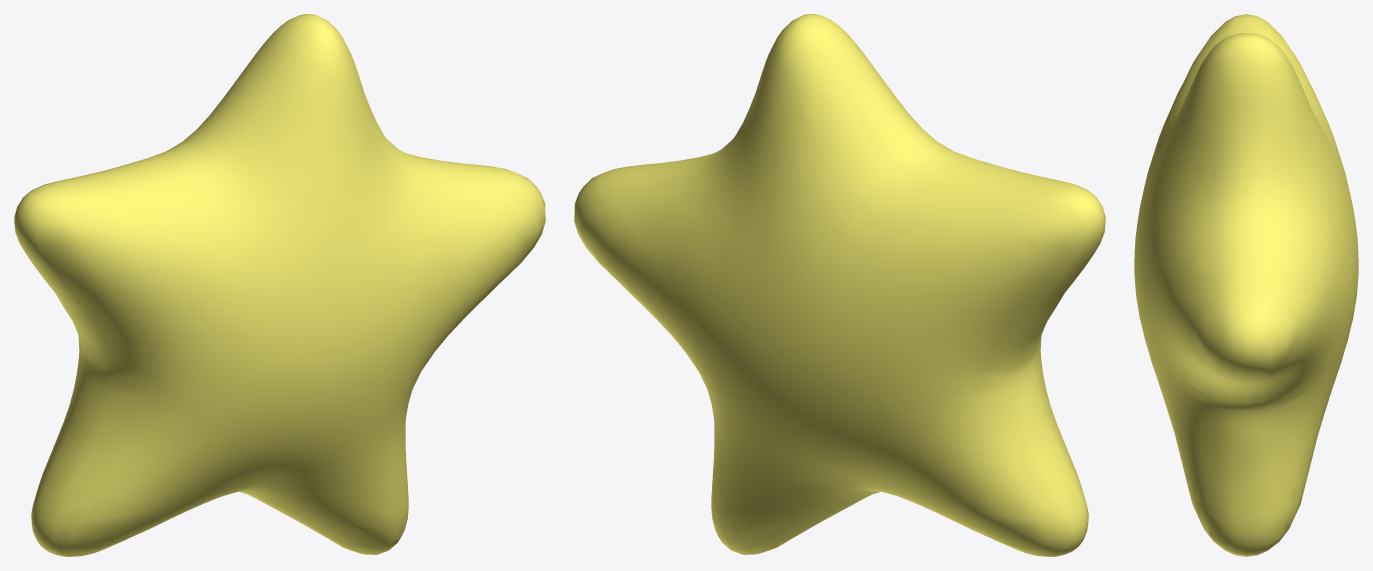
The model's file is onestar.glb.
3 views of the same model, side by side, from view 1: azimuth 30°, elevation 25°; view 2: azimuth 150°, elevation 25°; view 3: azimuth 270°, elevation 25° (orthographic). The views are drawn at different scales.
Parts seen in each view (by area): view 1: node_id6; view 2: node_id6; view 3: node_id6.
Part boxes in pixels (<box>): node_id6: <box>14,14,545,556</box>; node_id6: <box>574,14,1105,556</box>; node_id6: <box>1134,14,1358,556</box>.
Bounding box in the file's own units: 0.4267 × 0.4268 × 0.1764.
Materials: 1 (1 with a texture image).
